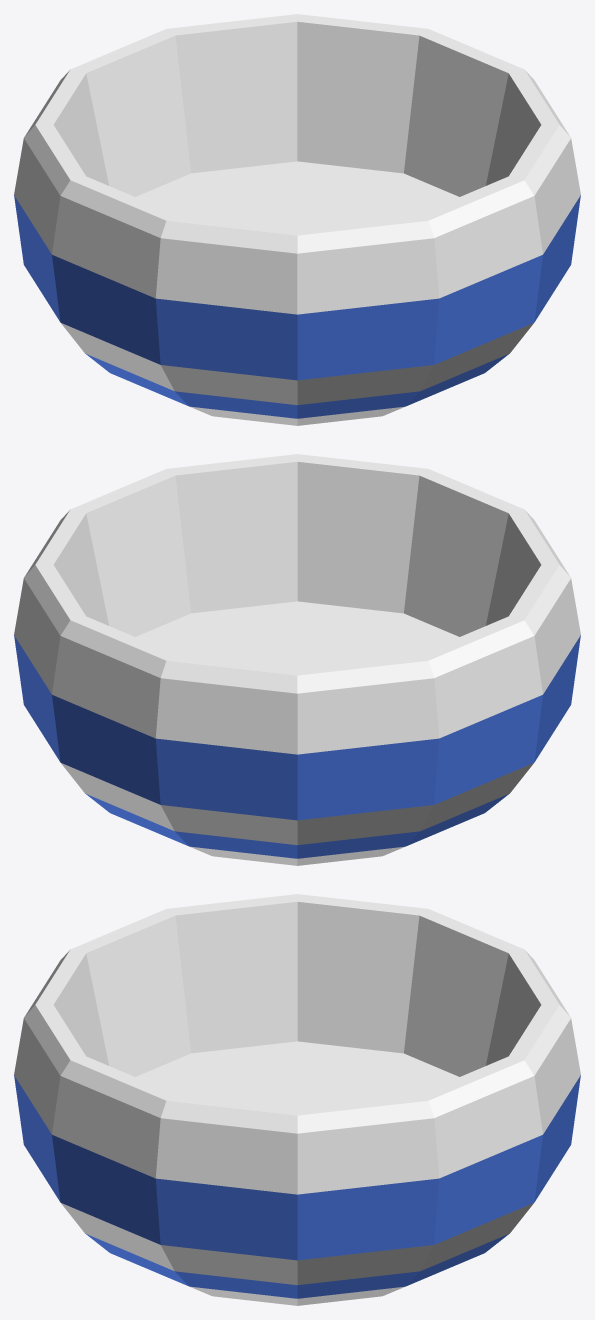
The model's file is Deep Dish_7.fbx.
The picture shows the model from 3 angles, top to bottom: view 1: azimuth 30°, elevation 25°; view 2: azimuth 150°, elevation 25°; view 3: azimuth 270°, elevation 25°; orthographic projection.
Parts seen in each view (by area): view 1: Deep Dish_7; view 2: Deep Dish_7; view 3: Deep Dish_7.
Boxes of the visible parts, left/top/right/bottom form: Deep Dish_7: left=14, top=14, right=580, bottom=425; Deep Dish_7: left=14, top=454, right=580, bottom=865; Deep Dish_7: left=14, top=894, right=580, bottom=1305.
Bounding box in the file's own units: 0.1778 × 0.0793 × 0.1778.
